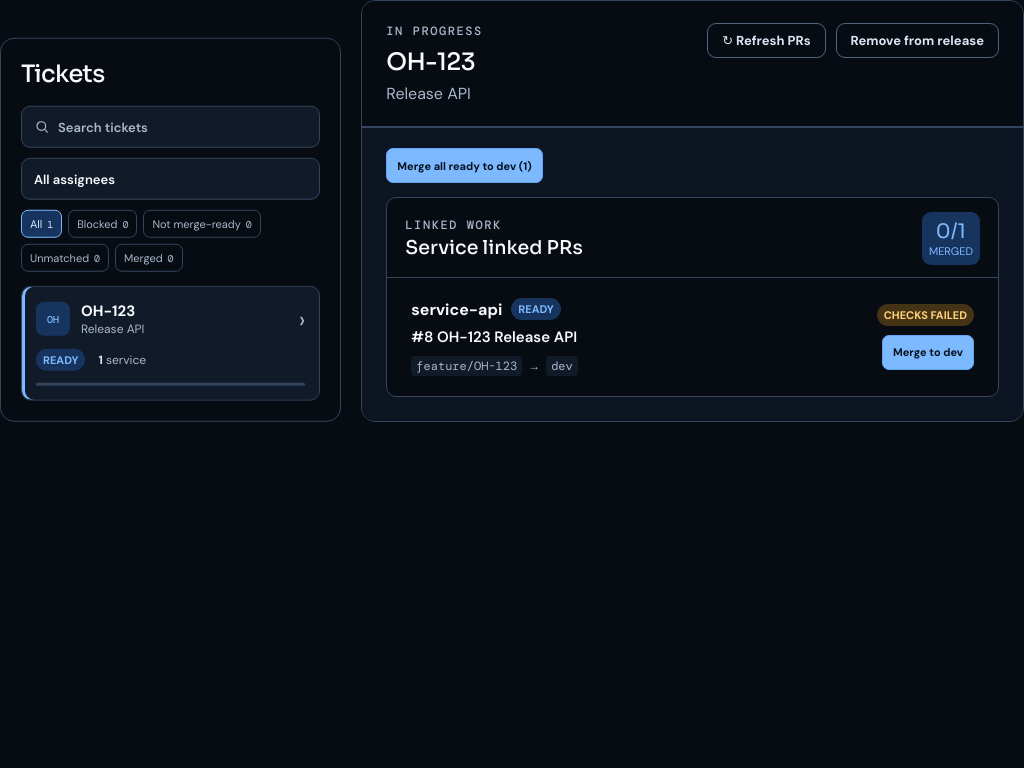
it: ReleaseTicketsView merge options › shows check failures and merges a ready feature PR
This screenshot has width=1024, height=768.
Expected: the text "Checks failed" is shown, [877,304,974,326]
Click the button "Merge to dev" at (928,352), box [882,335,974,370]
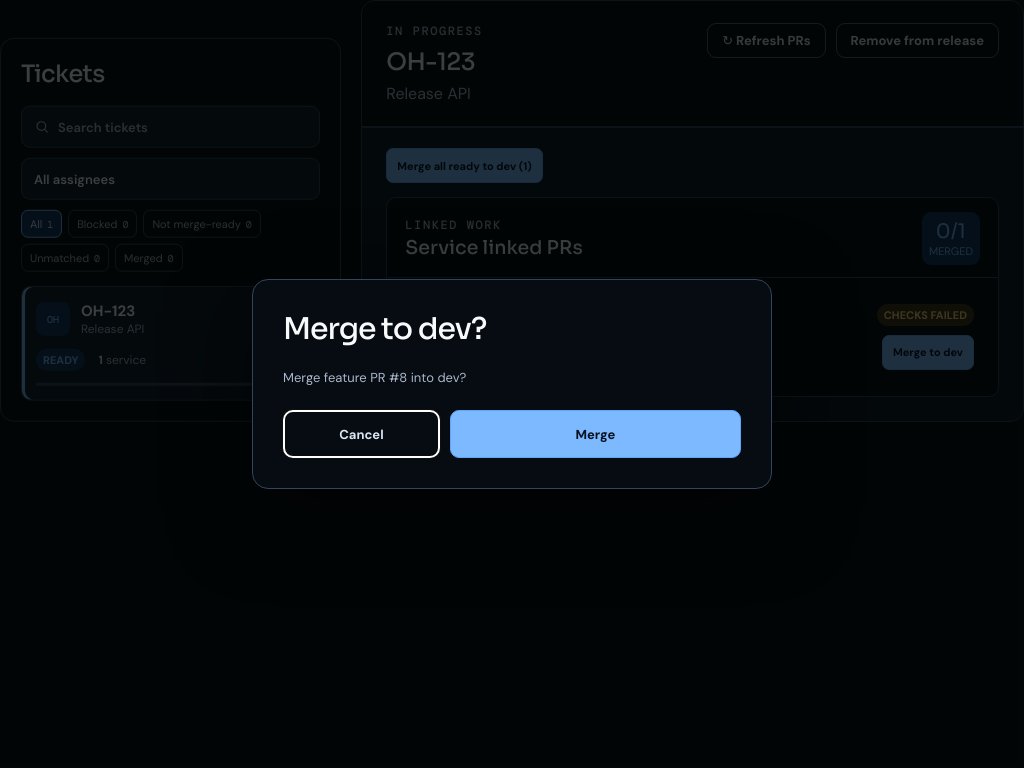
Click the button "Merge" at (595,434), box [450,410,741,458]
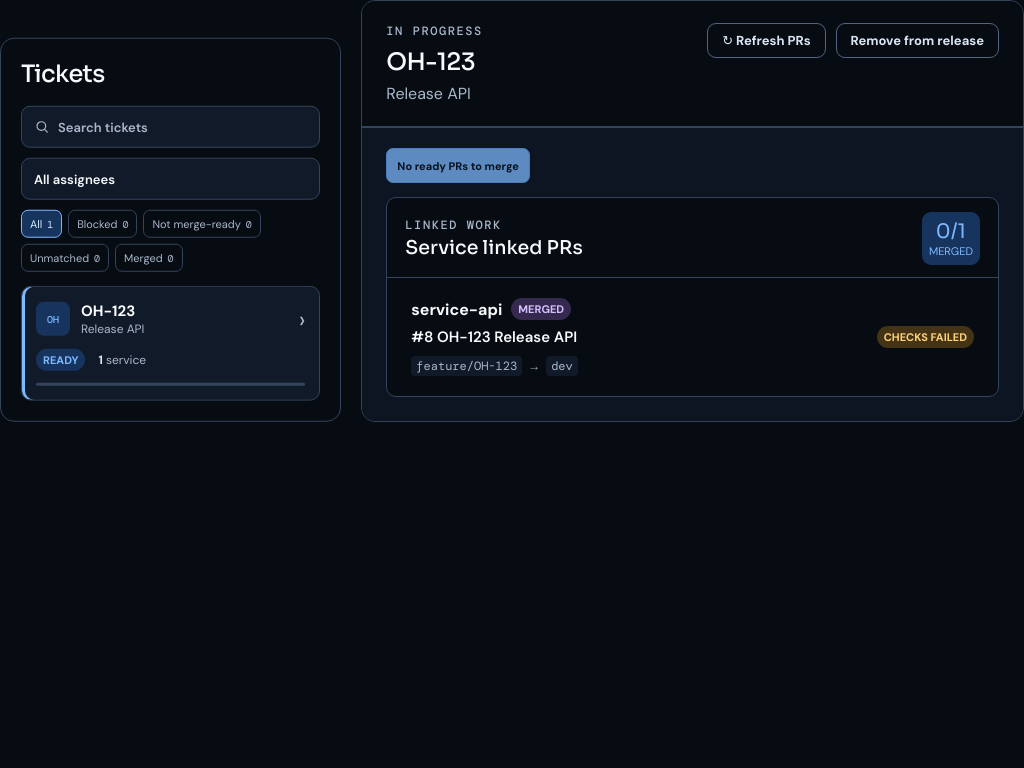
Now the button "Merge to dev" is gone
Now the text with class "merged" reads "Merged", box [518,302,564,316]
